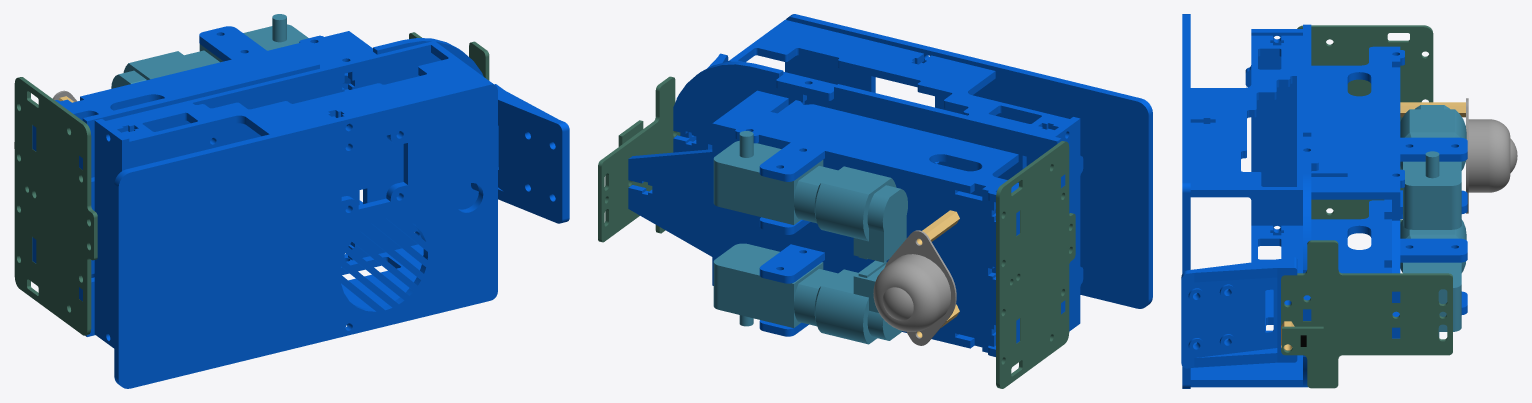
The model's file is foxy-chasis.obj.
The picture shows the model from 3 angles, left to right: view 1: azimuth 30°, elevation 25°; view 2: azimuth 150°, elevation 25°; view 3: azimuth 270°, elevation 25°; orthographic projection. The views are drawn at different scales.
Parts seen in each view (by area): view 1: foxy-chasis; view 2: foxy-chasis; view 3: foxy-chasis.
Boxes of the visible parts, left/top/right/bottom form: foxy-chasis: left=14, top=14, right=569, bottom=388; foxy-chasis: left=598, top=14, right=1152, bottom=388; foxy-chasis: left=1181, top=14, right=1517, bottom=388.
Bounding box in the file's own units: 0.2048 × 0.0871 × 0.129.
